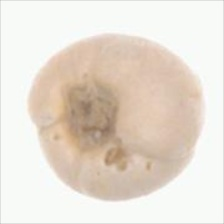L4: (27, 33, 205, 202)
